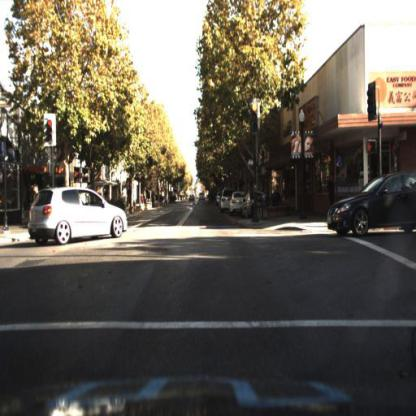car: (324, 166, 416, 244), (19, 187, 130, 247), (328, 172, 414, 245), (243, 191, 269, 221), (229, 192, 250, 217), (230, 195, 245, 215), (221, 190, 229, 214), (197, 190, 206, 204)
pedestrian: (28, 173, 46, 203), (329, 172, 339, 214), (330, 174, 338, 214)
trafficLight-Red: (44, 115, 57, 146), (251, 101, 261, 137), (46, 117, 57, 148)
